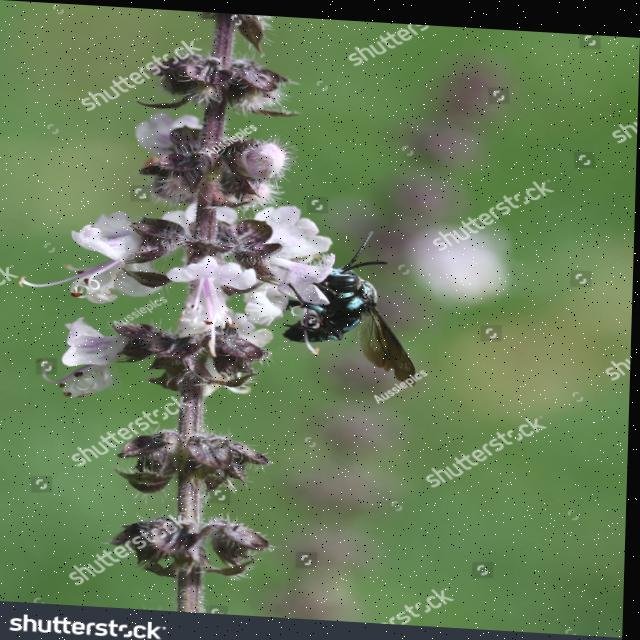Thyreus: (281, 214, 434, 383)
